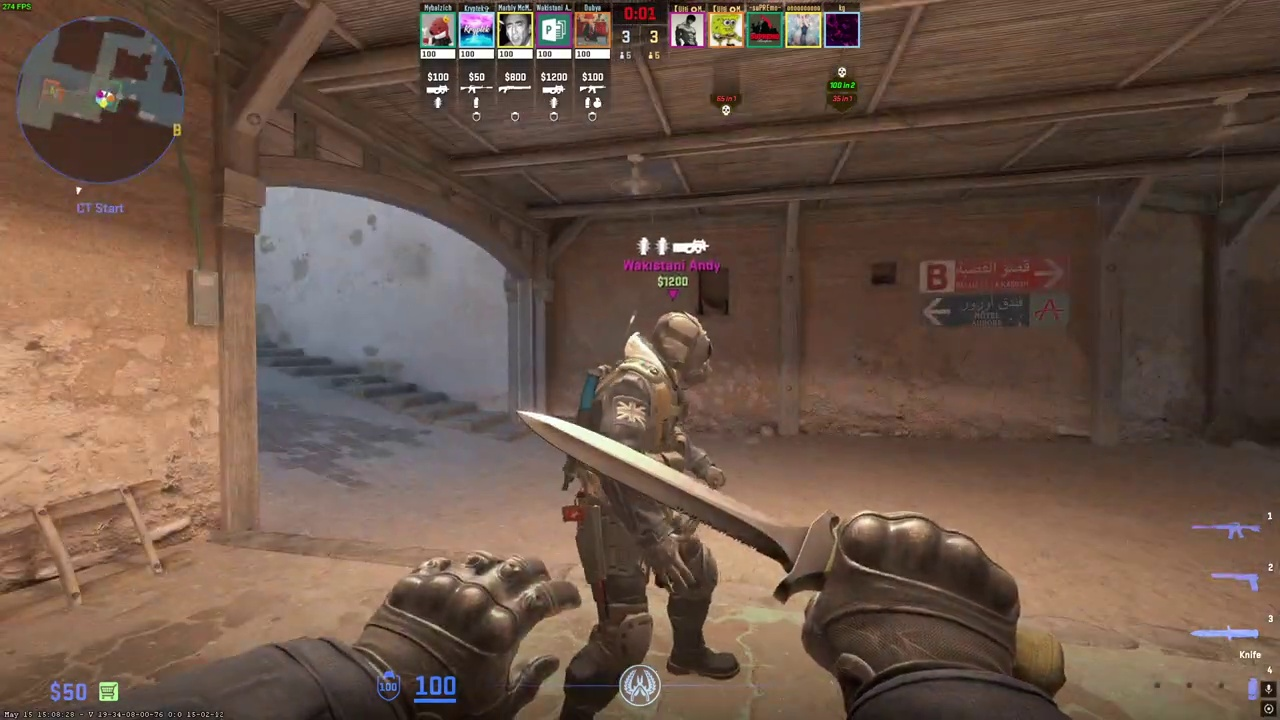CT: (559, 311, 740, 717)
